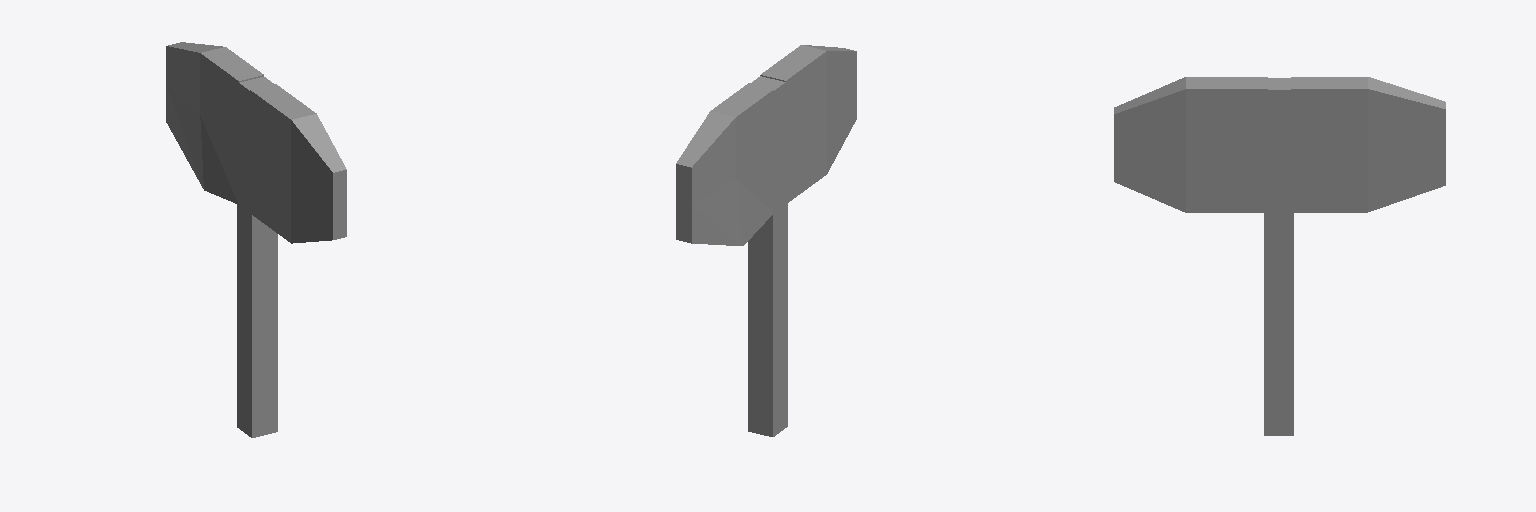
File: axe.obj
3 views of the same model, side by side, from view 1: azimuth 30°, elevation 25°; view 2: azimuth 150°, elevation 25°; view 3: azimuth 270°, elevation 25° (orthographic).
Parts seen in each view (by area): view 1: Cube.001, Cube, Cube.002; view 2: Cube.002, Cube, Cube.001; view 3: Cube.002, Cube.001, Cube.
Part boxes in pixels (left/top/right/bottom): Cube.001: left=250, top=84, right=346, bottom=243; Cube: left=237, top=77, right=277, bottom=437; Cube.002: left=166, top=42, right=263, bottom=204; Cube.002: left=676, top=83, right=773, bottom=245; Cube: left=748, top=76, right=787, bottom=436; Cube.001: left=760, top=45, right=856, bottom=203; Cube.002: left=1291, top=77, right=1445, bottom=212; Cube.001: left=1114, top=77, right=1267, bottom=212; Cube: left=1264, top=78, right=1293, bottom=435.
Bounding box in the file's own units: 0.1436 × 1.74 × 1.51.